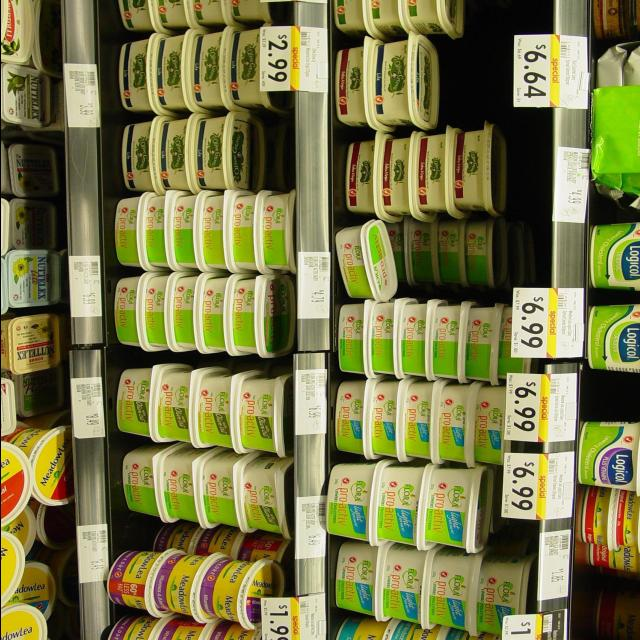empty_space: (437, 42, 511, 118), (577, 568, 639, 634), (576, 377, 640, 423), (254, 120, 290, 182)
